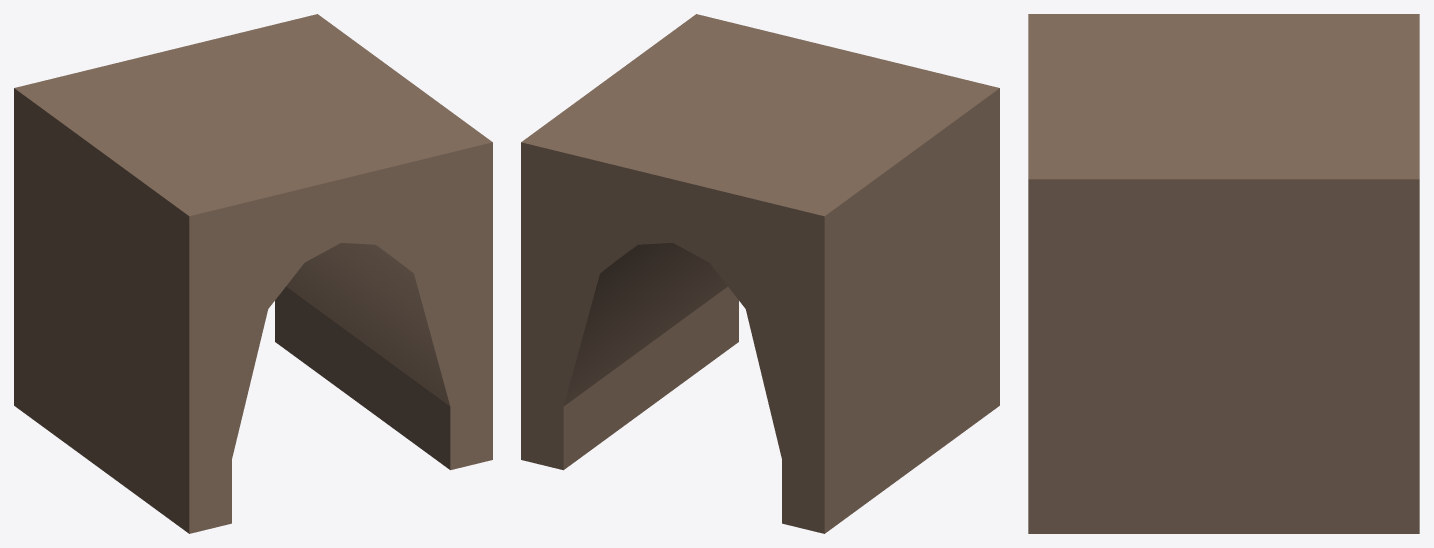
File: SM_Prop_bridge_arch_5_LOD2.glb
The picture shows the model from 3 angles, left to right: view 1: azimuth 30°, elevation 25°; view 2: azimuth 150°, elevation 25°; view 3: azimuth 270°, elevation 25°; orthographic projection. The views are drawn at different scales.
Visible parts, largest first — view 1: SM_Prop_bridge_arch_5_LOD2; view 2: SM_Prop_bridge_arch_5_LOD2; view 3: SM_Prop_bridge_arch_5_LOD2.
Part boxes in pixels (box(x1,y1,x2,y2)): SM_Prop_bridge_arch_5_LOD2: box(14, 14, 492, 533); SM_Prop_bridge_arch_5_LOD2: box(521, 14, 999, 533); SM_Prop_bridge_arch_5_LOD2: box(1028, 14, 1419, 533).
Bounding box in the file's own units: 1 × 1 × 1.
